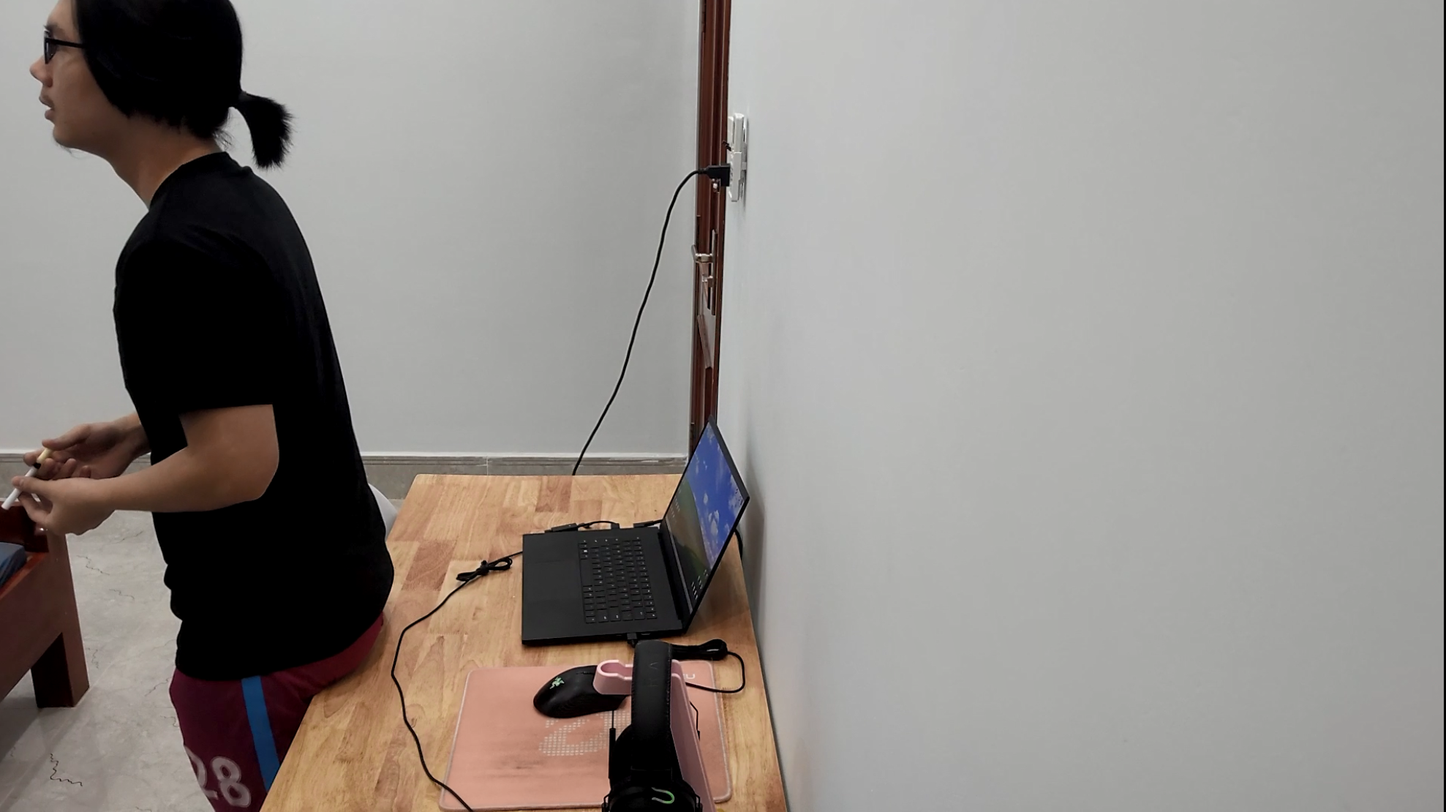cigarette: (4, 440, 50, 521)
person: (0, 0, 428, 720)
